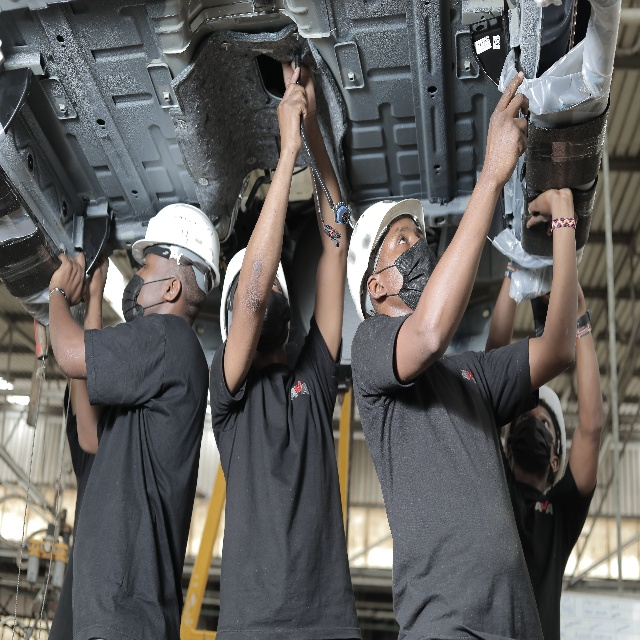Mascara: (372, 238, 436, 312), (506, 416, 558, 480), (121, 269, 179, 322), (256, 292, 290, 356)
Sin_guantes: (483, 70, 531, 189), (276, 63, 308, 156), (525, 185, 579, 237), (47, 250, 87, 305), (281, 59, 317, 119), (82, 255, 109, 304)
